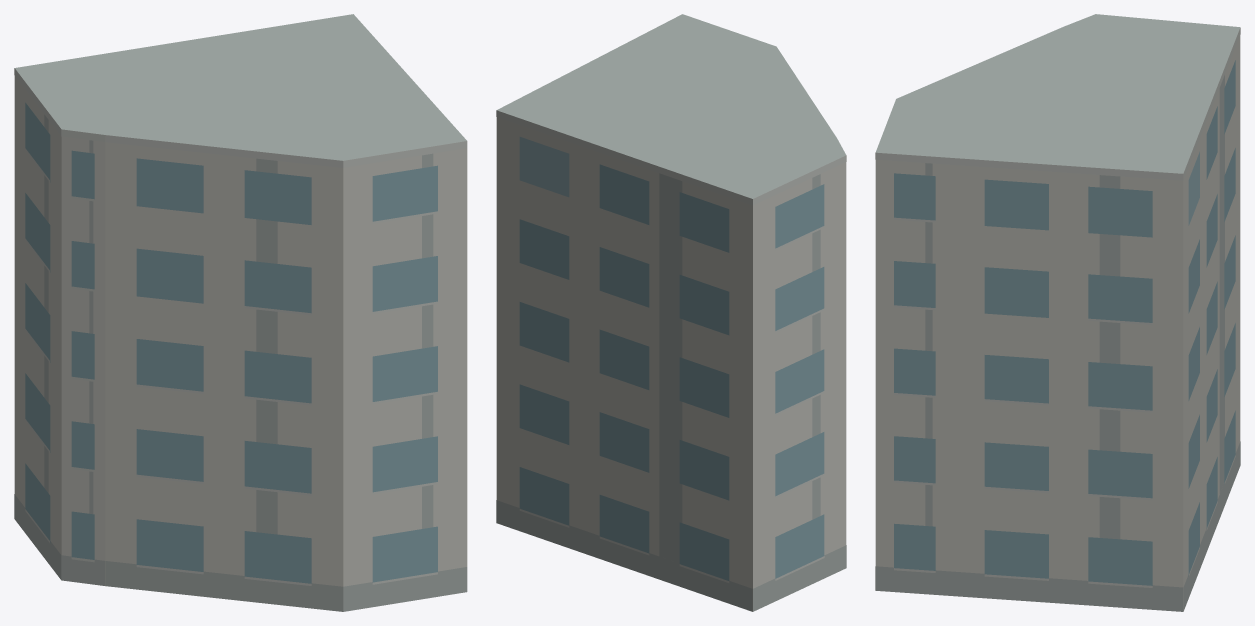
Rendered from survey-upis-32680370.glb.
3 renders of one model, left to right at view 1: azimuth 30°, elevation 25°; view 2: azimuth 150°, elevation 25°; view 3: azimuth 270°, elevation 25°, orthographic. The views are drawn at different scales.
Visible parts, largest first — view 1: survey-upis-32680370.tmp; view 2: survey-upis-32680370.tmp; view 3: survey-upis-32680370.tmp.
Boxes of the visible parts, <box> form: survey-upis-32680370.tmp: <box>14,14,467,611</box>; survey-upis-32680370.tmp: <box>496,14,846,611</box>; survey-upis-32680370.tmp: <box>875,14,1240,611</box>.
Size of the model in its own units: 11.94 by 15.25 by 11.53.
